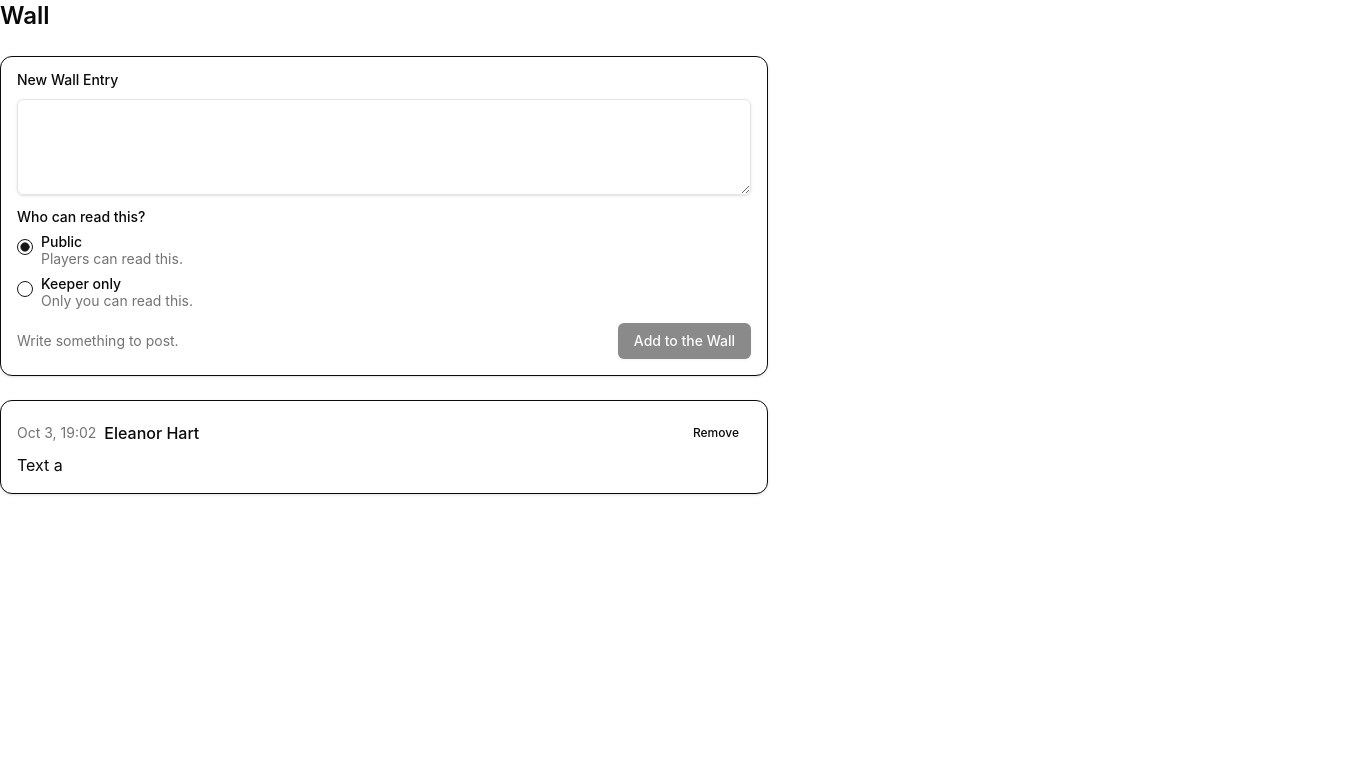
Scenario: CampaignWall › removes an entry for the Keeper and announces "Wall Entry removed." (WL-UX-7)
The width and height of the screenshot is (1366, 768).
Click the button named "Remove Wall Entry": x=716, y=433 [681, 417, 751, 449]
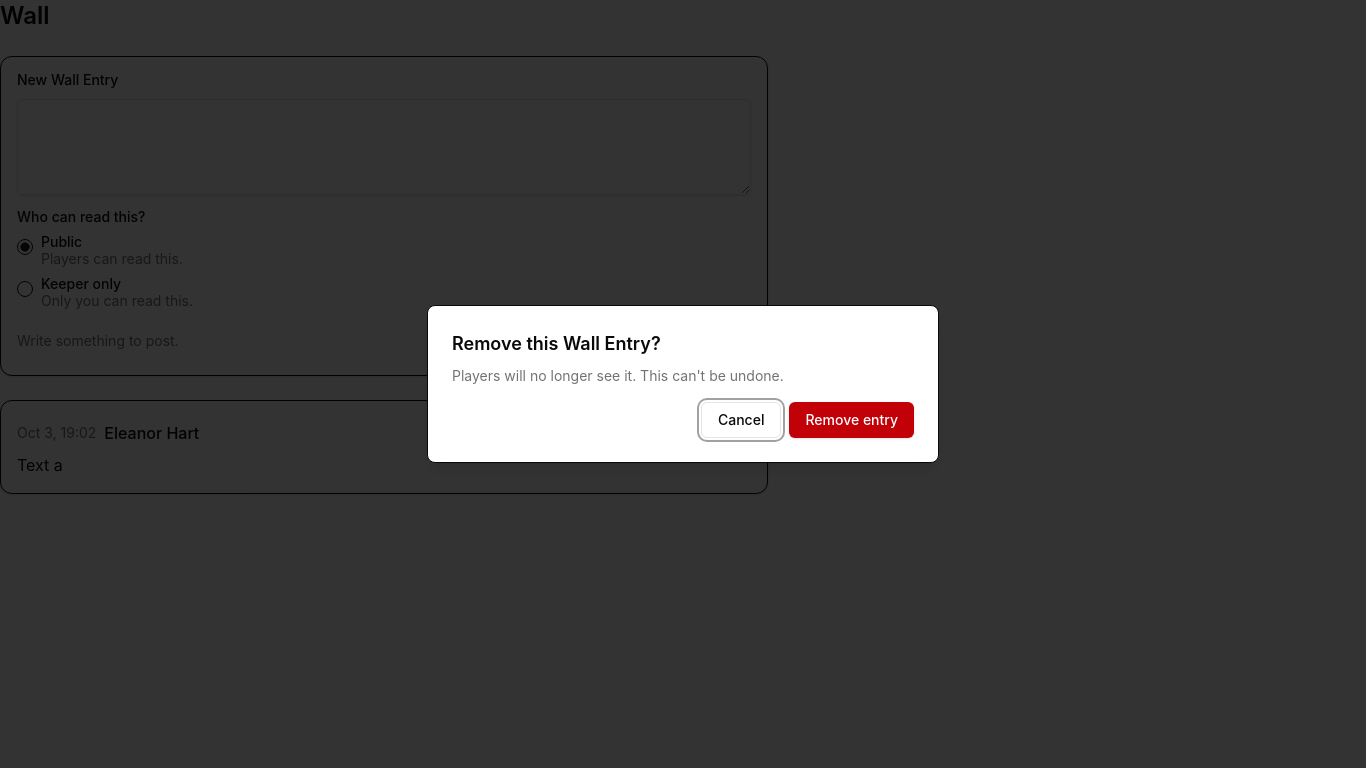
Click the button "Remove entry": x=852, y=420 [789, 402, 914, 438]
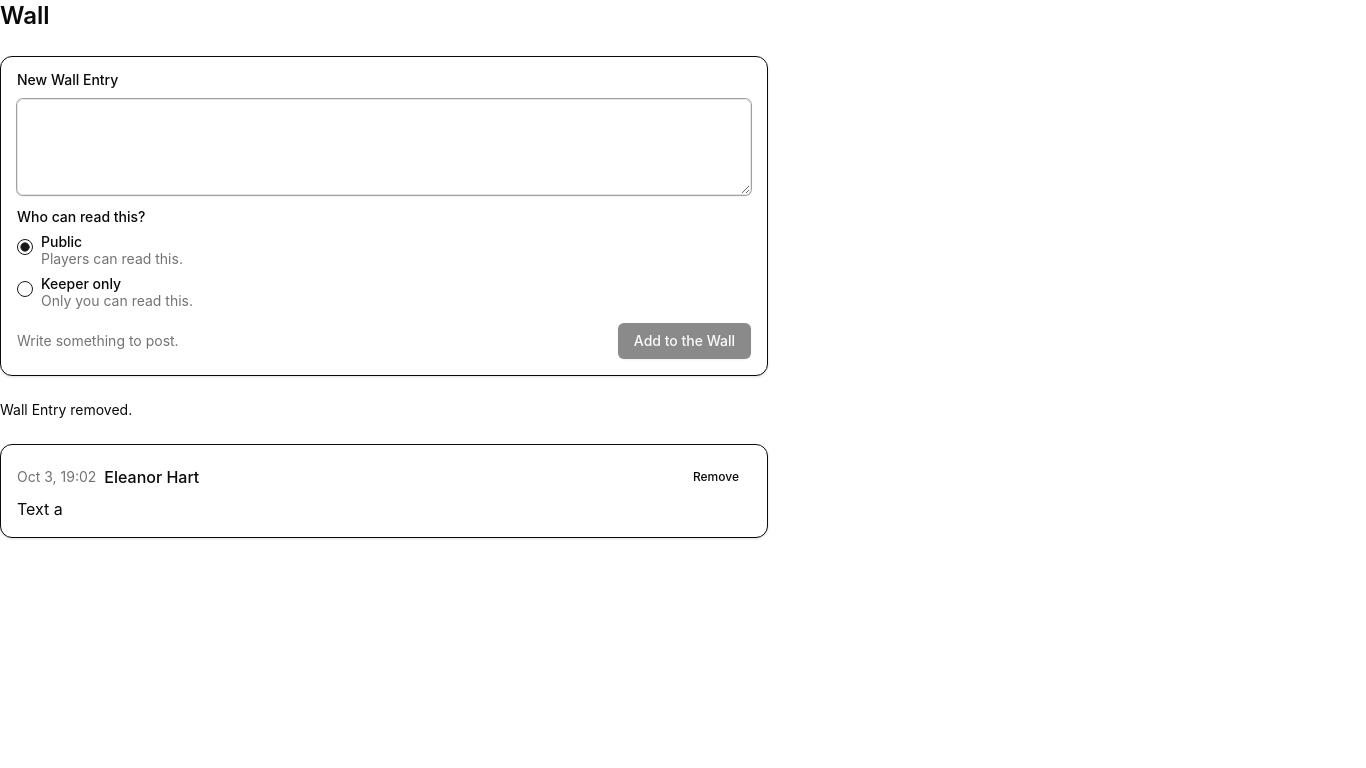
Expected: the text "Wall Entry removed." is shown, [0, 401, 132, 418]
